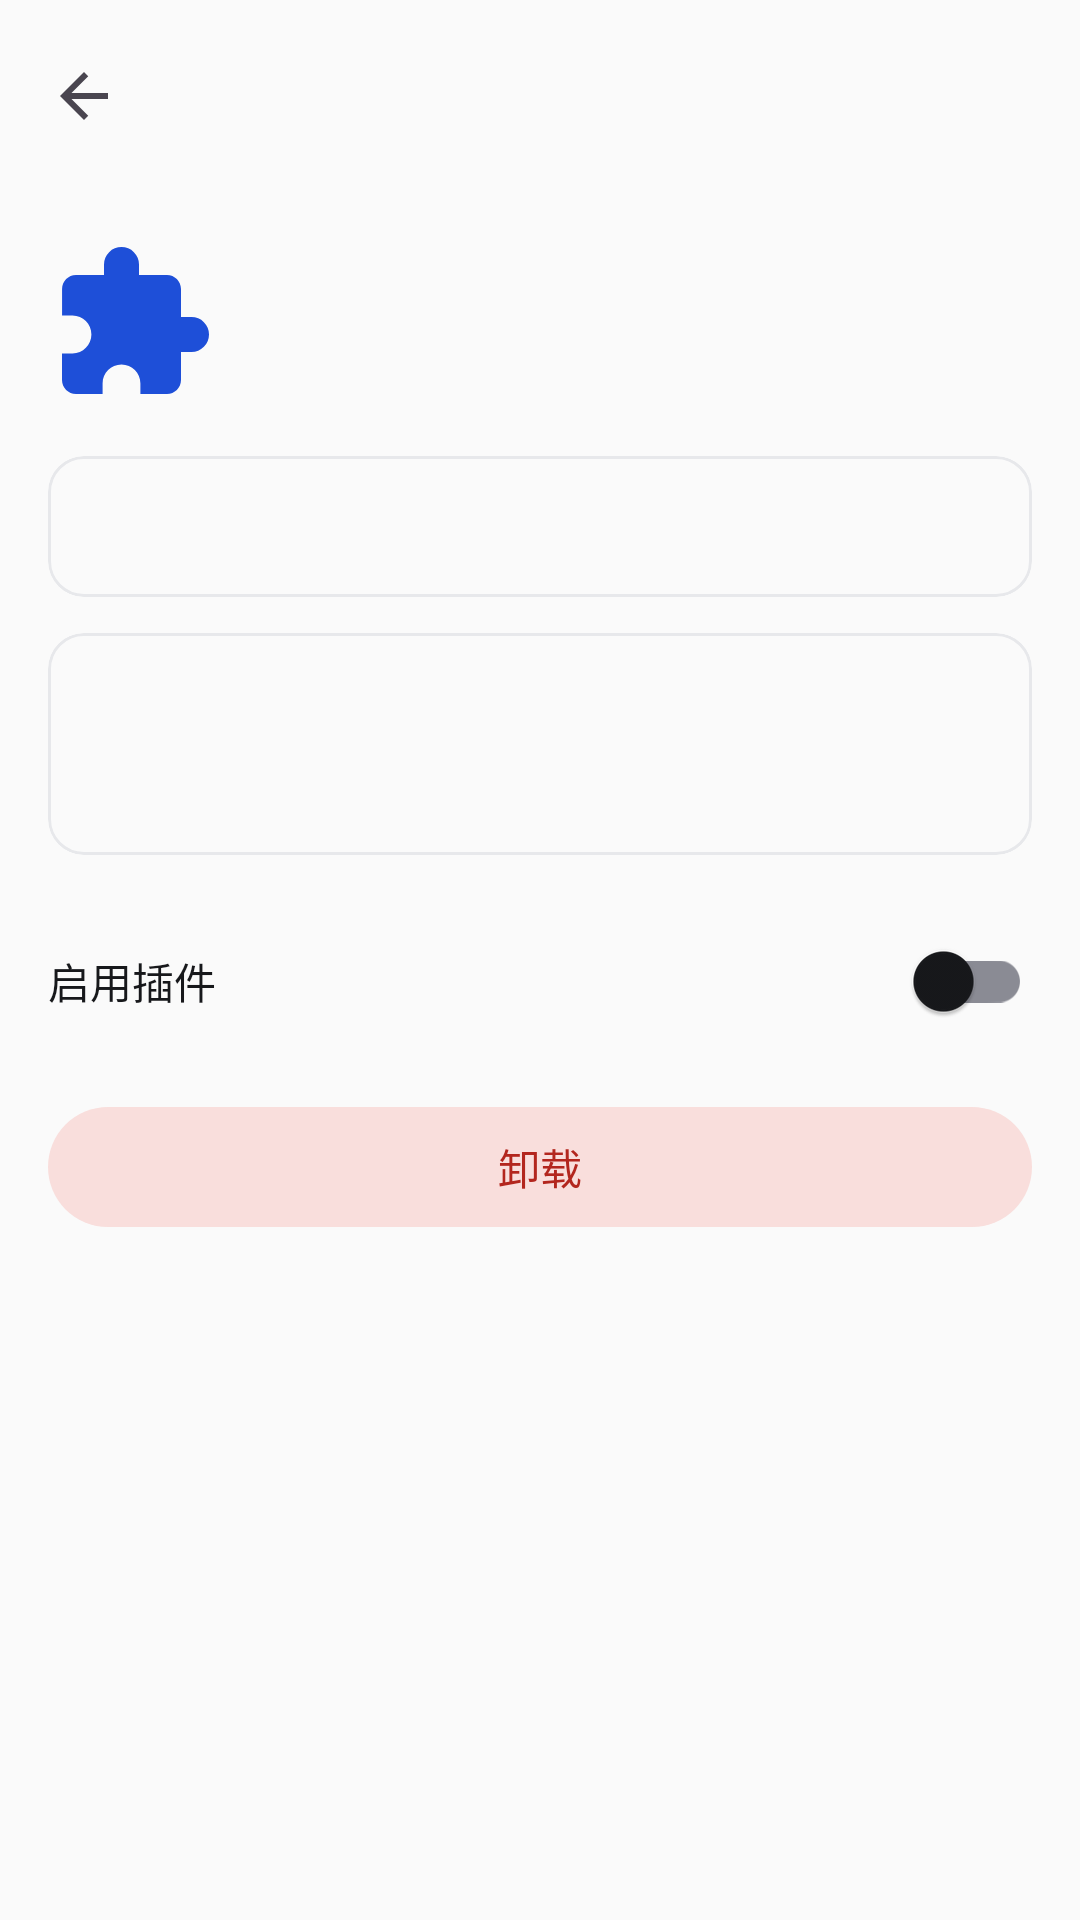

Screen size 1080w x 1920h. Icon name, then its center in pixels as [x,y]:
插件管理: [135,320]
